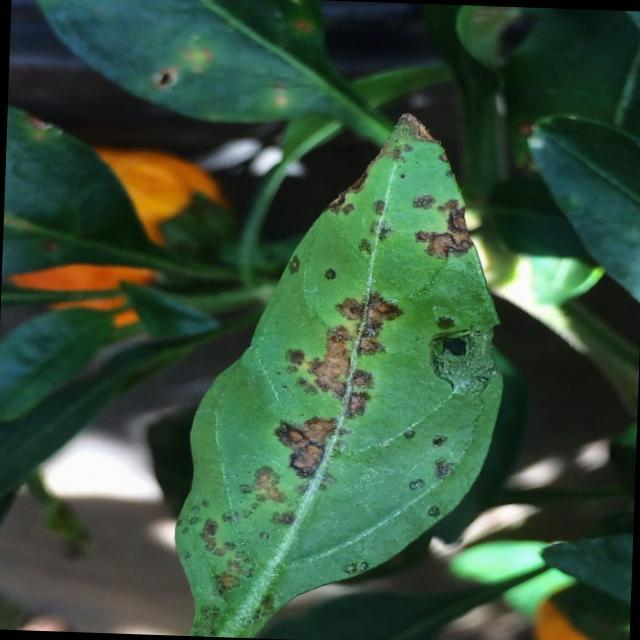Bacterial Spot: (186, 139, 479, 566)
